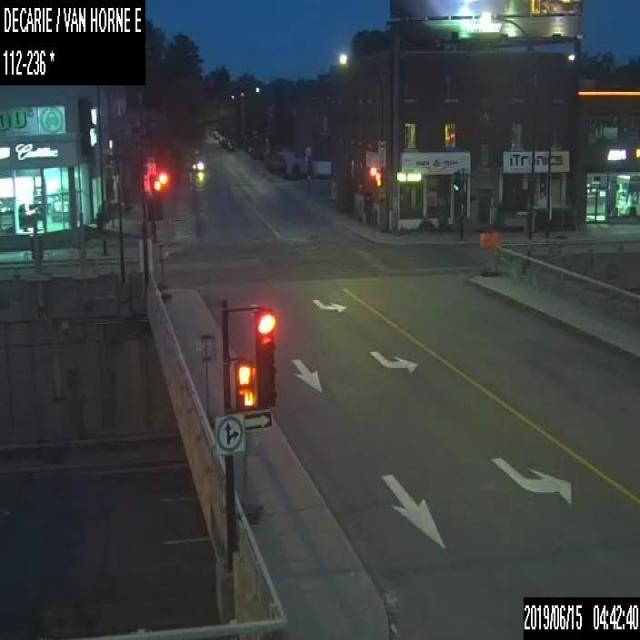construction: (238, 427, 263, 522), (197, 330, 216, 428), (154, 239, 170, 302), (479, 228, 490, 276), (490, 230, 500, 276)
vehicle: (266, 152, 286, 172), (191, 157, 204, 171), (249, 146, 262, 159), (222, 137, 232, 149)
